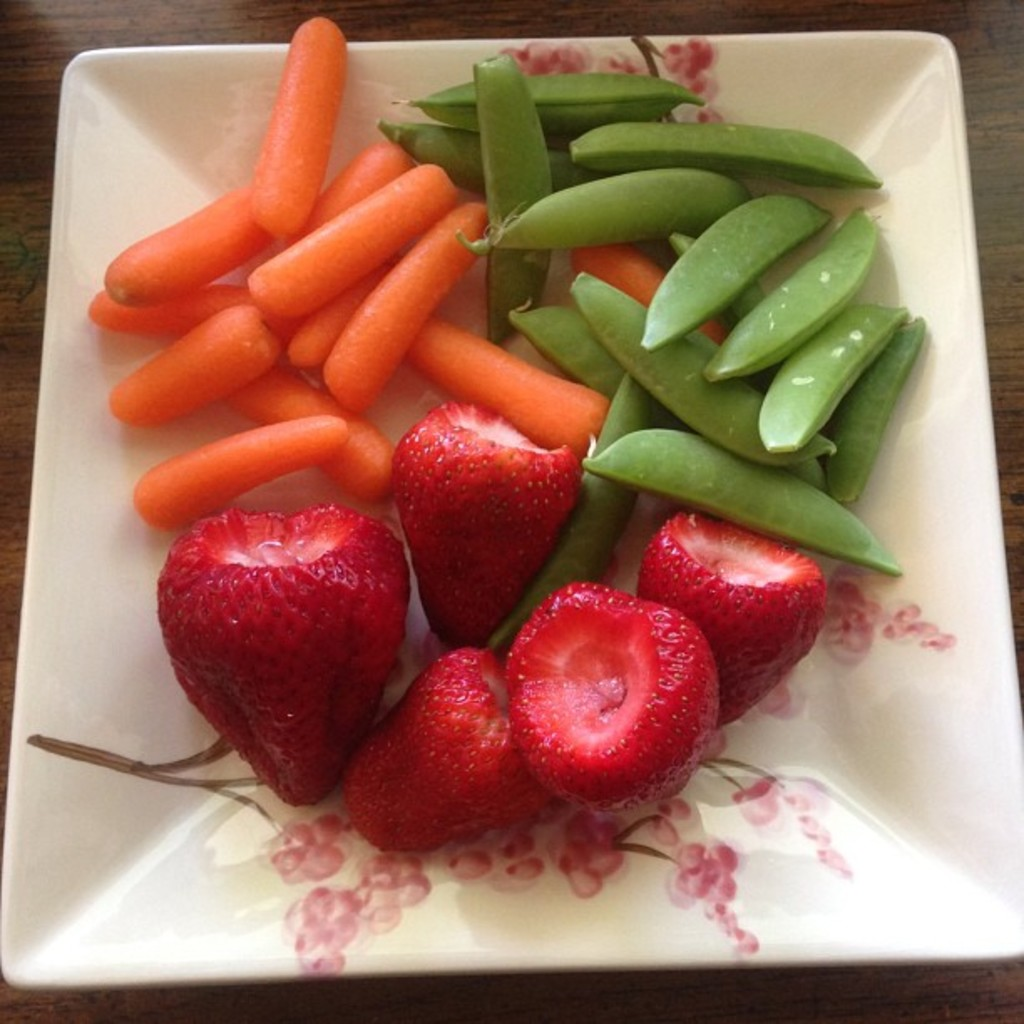Carrot: (87, 147, 612, 532), (244, 10, 348, 249)
